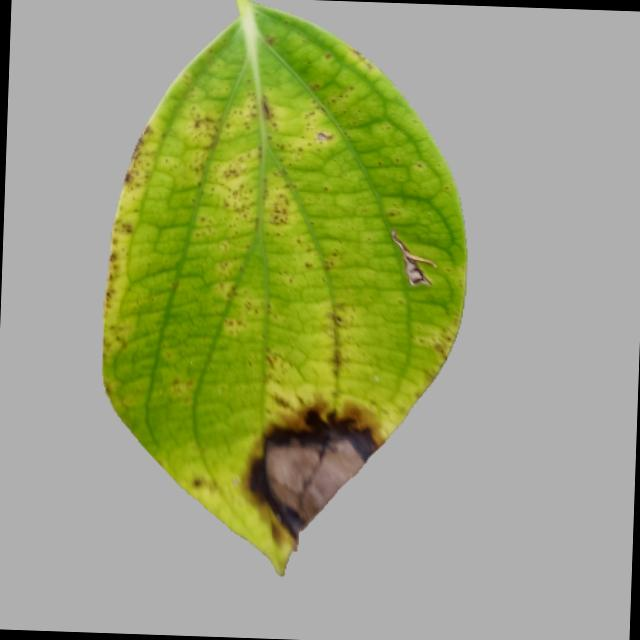leaf-blight: (69, 5, 509, 586)
